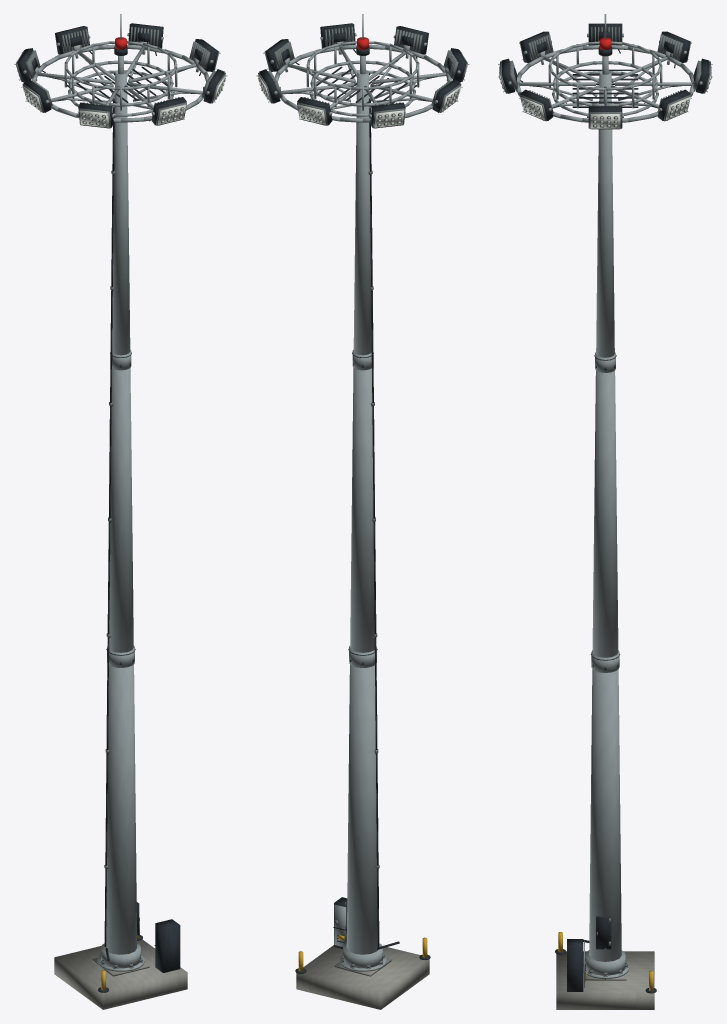
3 views of the same model, side by side, from view 1: azimuth 30°, elevation 25°; view 2: azimuth 150°, elevation 25°; view 3: azimuth 270°, elevation 25° (orthographic).
Parts seen in each view (by area): view 1: VIS_Tapered_Galvanized_Shaft, VIS_CastInSitu_Foundation, VIS_Weatherproof_Cable_Riser, VIS_Crown_Radial_Arms, VIS_Feeder_Cabinet_Housing, VIS_Crown_Outer_Frame, VIS_Crown_Access_ServiceRail, VIS_Crown_Inner_Frame, VIS_Section_Overlap_Sleeve, VIS_Crown_ServiceRail_Posts, VIS_Base_PoleCollar, VIS_Crown_Diagonal_Braces; view 2: VIS_Tapered_Galvanized_Shaft, VIS_CastInSitu_Foundation, VIS_Weatherproof_Cable_Riser, VIS_Crown_Radial_Arms, VIS_Crown_Outer_Frame, VIS_Crown_Access_ServiceRail, VIS_Crown_Inner_Frame, VIS_Section_Overlap_Sleeve, VIS_Crown_ServiceRail_Posts, VIS_Base_PoleCollar, VIS_Crown_Diagonal_Braces; view 3: VIS_Tapered_Galvanized_Shaft, VIS_CastInSitu_Foundation, VIS_Crown_Radial_Arms, VIS_Crown_Outer_Frame, VIS_Feeder_Cabinet_Housing, VIS_Crown_Access_ServiceRail, VIS_Section_Overlap_Sleeve, VIS_Crown_Inner_Frame, VIS_Crown_Grating_Bars, VIS_Crown_ServiceRail_Posts, VIS_Base_PoleCollar, VIS_Crown_Diagonal_Braces.
Boxes of the visible parts, <box> form: VIS_Tapered_Galvanized_Shaft: <box>104,70,137,954</box>; VIS_CastInSitu_Foundation: <box>54,939,187,1009</box>; VIS_Weatherproof_Cable_Riser: <box>104,98,114,947</box>; VIS_Crown_Radial_Arms: <box>37,47,202,109</box>; VIS_Feeder_Cabinet_Housing: <box>155,919,180,972</box>; VIS_Crown_Outer_Frame: <box>31,44,208,122</box>; VIS_Crown_Access_ServiceRail: <box>64,41,177,89</box>; VIS_Crown_Inner_Frame: <box>68,60,173,106</box>; VIS_Section_Overlap_Sleeve: <box>107,350,134,667</box>; VIS_Crown_ServiceRail_Posts: <box>64,43,177,110</box>; VIS_Base_PoleCollar: <box>101,943,140,968</box>; VIS_Crown_Diagonal_Braces: <box>56,59,185,109</box>; VIS_Tapered_Galvanized_Shaft: <box>346,70,377,954</box>; VIS_CastInSitu_Foundation: <box>296,945,429,1009</box>; VIS_Weatherproof_Cable_Riser: <box>369,98,379,947</box>; VIS_Crown_Radial_Arms: <box>281,47,446,109</box>; VIS_Crown_Outer_Frame: <box>275,44,452,122</box>; VIS_Crown_Access_ServiceRail: <box>306,41,419,89</box>; VIS_Crown_Inner_Frame: <box>310,60,415,106</box>; VIS_Section_Overlap_Sleeve: <box>349,350,376,667</box>; VIS_Crown_ServiceRail_Posts: <box>306,43,419,110</box>; VIS_Base_PoleCollar: <box>343,943,382,968</box>; VIS_Crown_Diagonal_Braces: <box>298,59,427,109</box>; VIS_Tapered_Galvanized_Shaft: <box>589,70,621,961</box>; VIS_CastInSitu_Foundation: <box>556,951,654,1009</box>; VIS_Crown_Radial_Arms: <box>518,56,692,108</box>; VIS_Crown_Outer_Frame: <box>516,45,694,122</box>; VIS_Feeder_Cabinet_Housing: <box>567,939,583,991</box>; VIS_Crown_Access_ServiceRail: <box>548,41,662,90</box>; VIS_Section_Overlap_Sleeve: <box>591,352,619,672</box>; VIS_Crown_Inner_Frame: <box>552,61,658,106</box>; VIS_Crown_Grating_Bars: <box>572,69,638,107</box>; VIS_Crown_ServiceRail_Posts: <box>548,44,662,108</box>; VIS_Base_PoleCollar: <box>585,950,625,975</box>; VIS_Crown_Diagonal_Braces: <box>537,66,672,106</box>.
Bounding box in the file's own units: 5.02 × 25.15 × 5.02.
8 materials, 8 textured.
